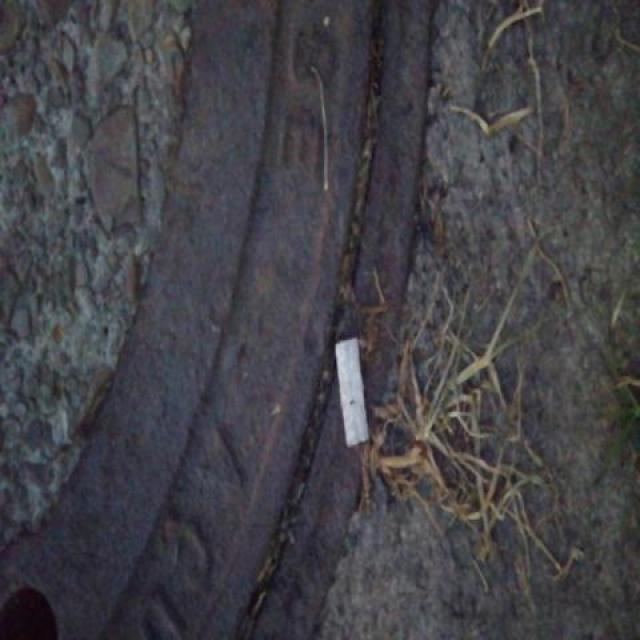non-organic waste: (330, 335, 374, 449)
